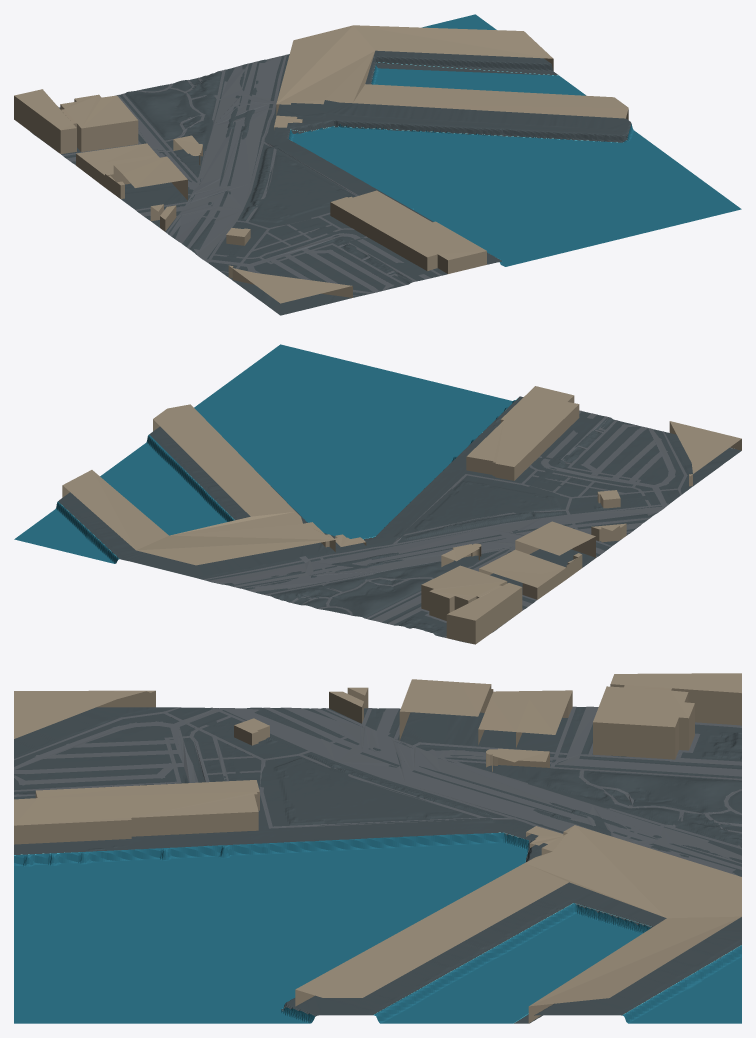
Rendered from epsg26910-1439-10896.lod0.glb.
The picture shows the model from 3 angles, top to bottom: view 1: azimuth 30°, elevation 25°; view 2: azimuth 150°, elevation 25°; view 3: azimuth 270°, elevation 25°; orthographic projection. The views are drawn at different scales.
Parts seen in each view (by area): view 1: epsg26910-1439-10896-lod0; view 2: epsg26910-1439-10896-lod0; view 3: epsg26910-1439-10896-lod0.
Boxes of the visible parts, <box> form: epsg26910-1439-10896-lod0: <box>14,14,741,315</box>; epsg26910-1439-10896-lod0: <box>14,344,741,644</box>; epsg26910-1439-10896-lod0: <box>14,673,741,1023</box>.
Bounding box in the file's own units: 384 × 25 × 384.
